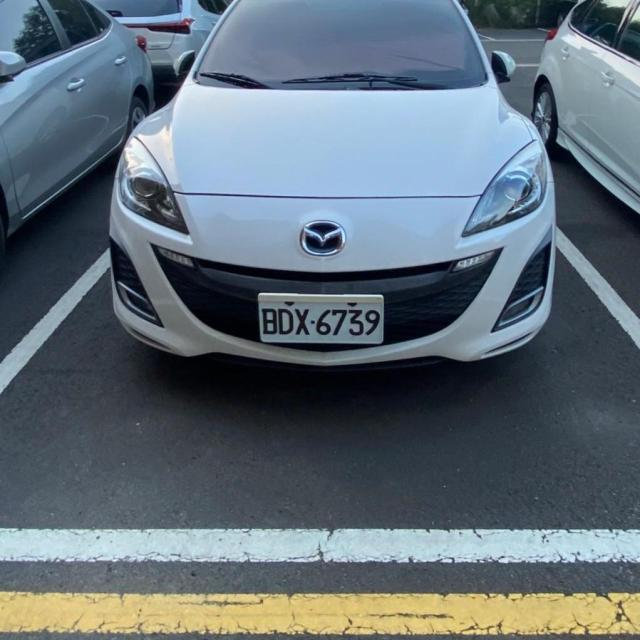W: (258, 294, 384, 344)
